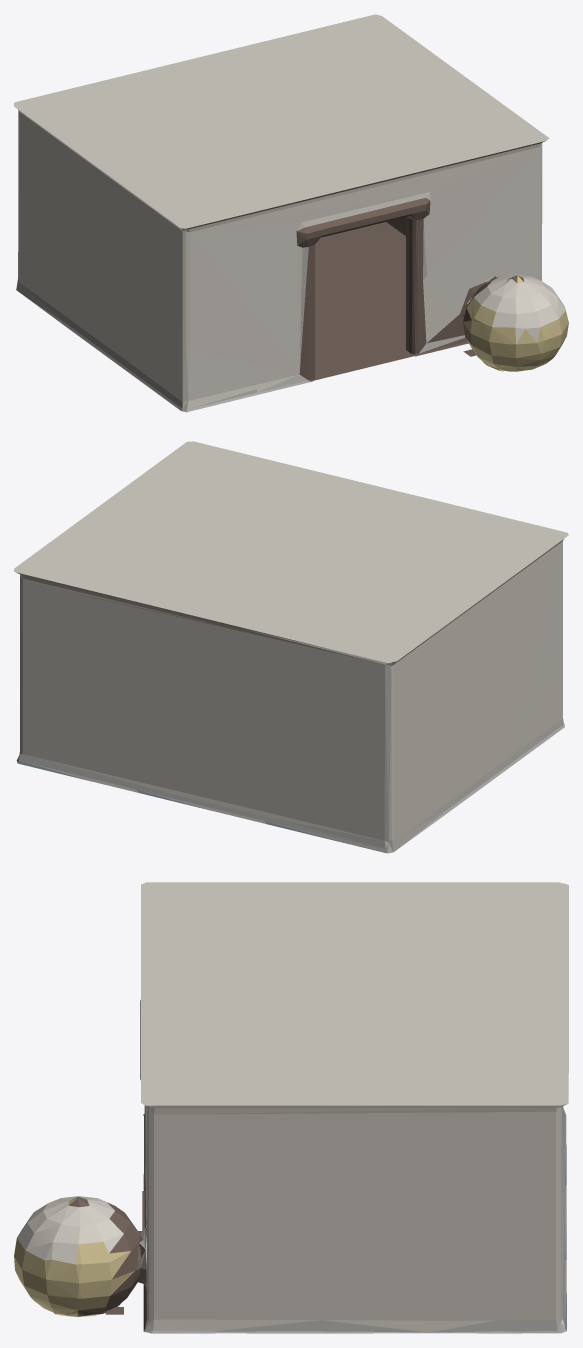
Rendered from etape-1.glb.
The picture shows the model from 3 angles, top to bottom: view 1: azimuth 30°, elevation 25°; view 2: azimuth 150°, elevation 25°; view 3: azimuth 270°, elevation 25°; orthographic projection. The views are drawn at different scales.
Parts seen in each view (by area): view 1: geometry_0; view 2: geometry_0; view 3: geometry_0.
Boxes of the visible parts, left/top/right/bottom form: geometry_0: left=14, top=14, right=568, bottom=412; geometry_0: left=14, top=441, right=568, bottom=853; geometry_0: left=14, top=882, right=568, bottom=1333.
Bounding box in the file's own units: 0.8122 × 0.3887 × 0.8523.
